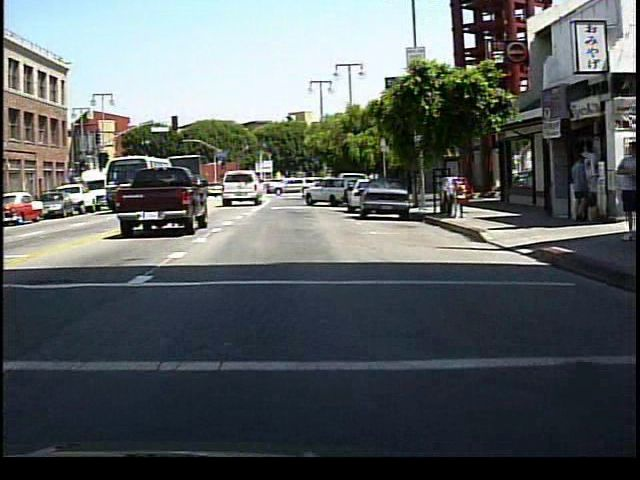person: (608, 135, 635, 242), (569, 150, 593, 225)
